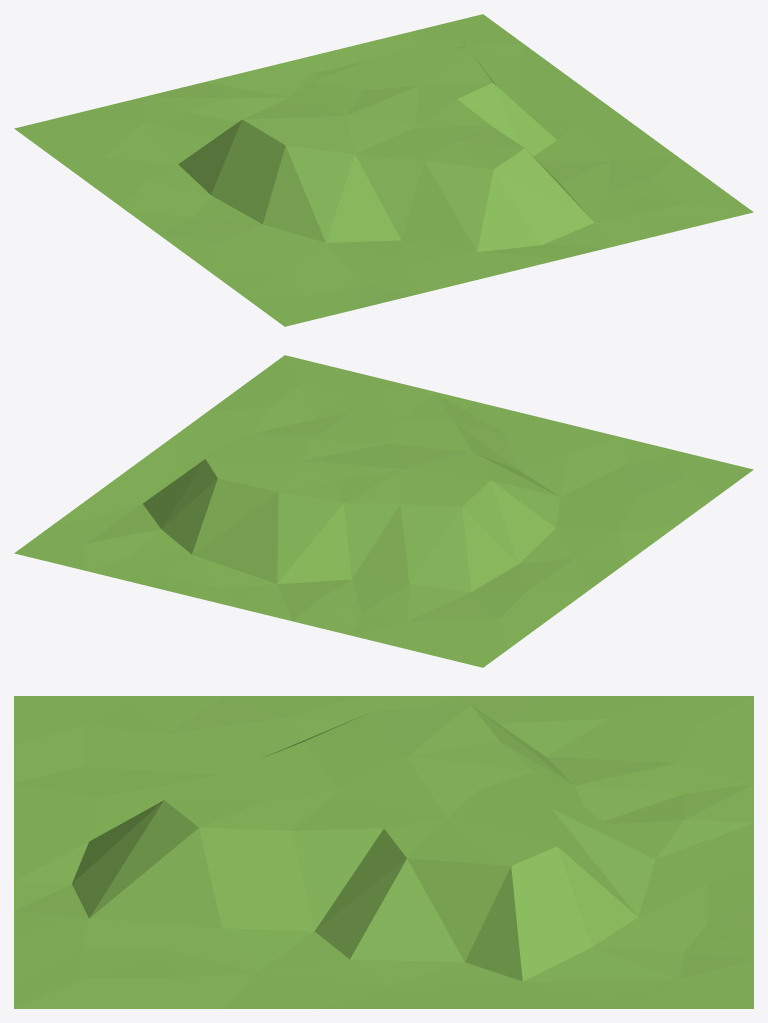
Rendered from MT_Terrain_S_c_16_LOD.fbx.
3 views of the same model, one above another, from view 1: azimuth 30°, elevation 25°; view 2: azimuth 150°, elevation 25°; view 3: azimuth 270°, elevation 25° (orthographic). The views are drawn at different scales.
Parts seen in each view (by area): view 1: MT_Terrain_S_c_16_LOD0; view 2: MT_Terrain_S_c_16_LOD0; view 3: MT_Terrain_S_c_16_LOD0.
Part boxes in pixels (bbox=[...]): MT_Terrain_S_c_16_LOD0: bbox=[14, 14, 753, 326]; MT_Terrain_S_c_16_LOD0: bbox=[14, 355, 753, 667]; MT_Terrain_S_c_16_LOD0: bbox=[14, 696, 753, 1008].
Size of what is drawn, in the model's own units: 2500 by 292 by 2500.
